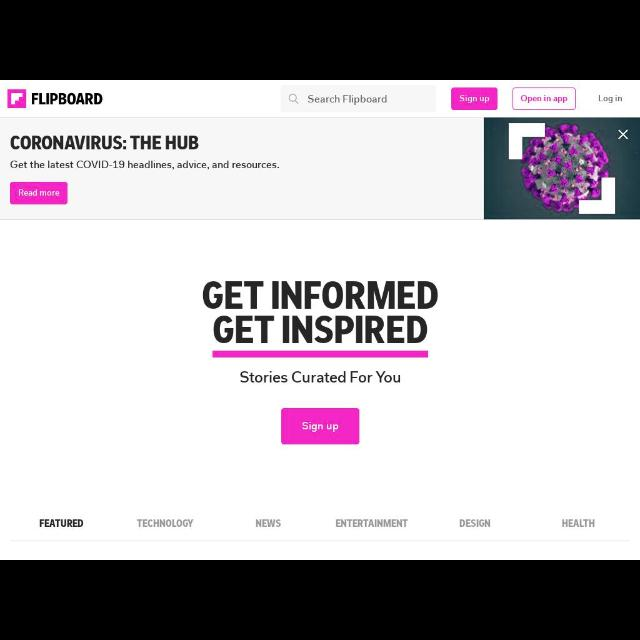icon: (286, 94, 300, 104), (618, 129, 628, 139)
image: (485, 118, 639, 218), (8, 90, 26, 108)
input: (281, 86, 435, 112)
text: (201, 279, 439, 345), (11, 136, 199, 150), (238, 370, 402, 384), (11, 161, 280, 169), (31, 92, 101, 106), (308, 95, 388, 105), (335, 519, 411, 527), (138, 518, 195, 528), (302, 421, 341, 435), (40, 518, 84, 530), (519, 94, 569, 104), (18, 189, 59, 199), (460, 94, 490, 104), (598, 94, 624, 104), (461, 520, 492, 528), (560, 520, 598, 526), (255, 518, 281, 526)
textbutton: (281, 408, 359, 444), (10, 180, 68, 203), (513, 88, 575, 109), (451, 88, 497, 110)
toolbar: (1, 80, 639, 118)
